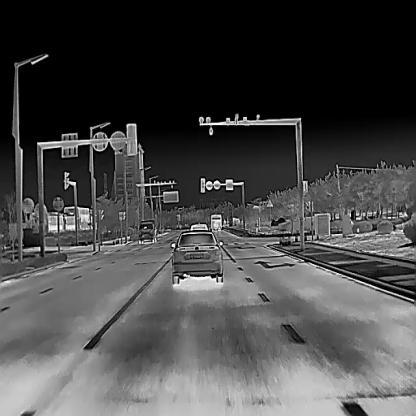car: (170, 229, 224, 283), (136, 218, 156, 244), (211, 212, 221, 230)
